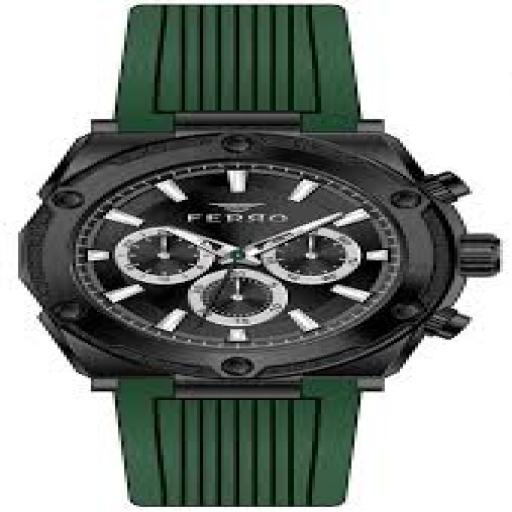KolSaati: (0, 4, 500, 496)
